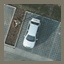car: (25, 17, 39, 51)
